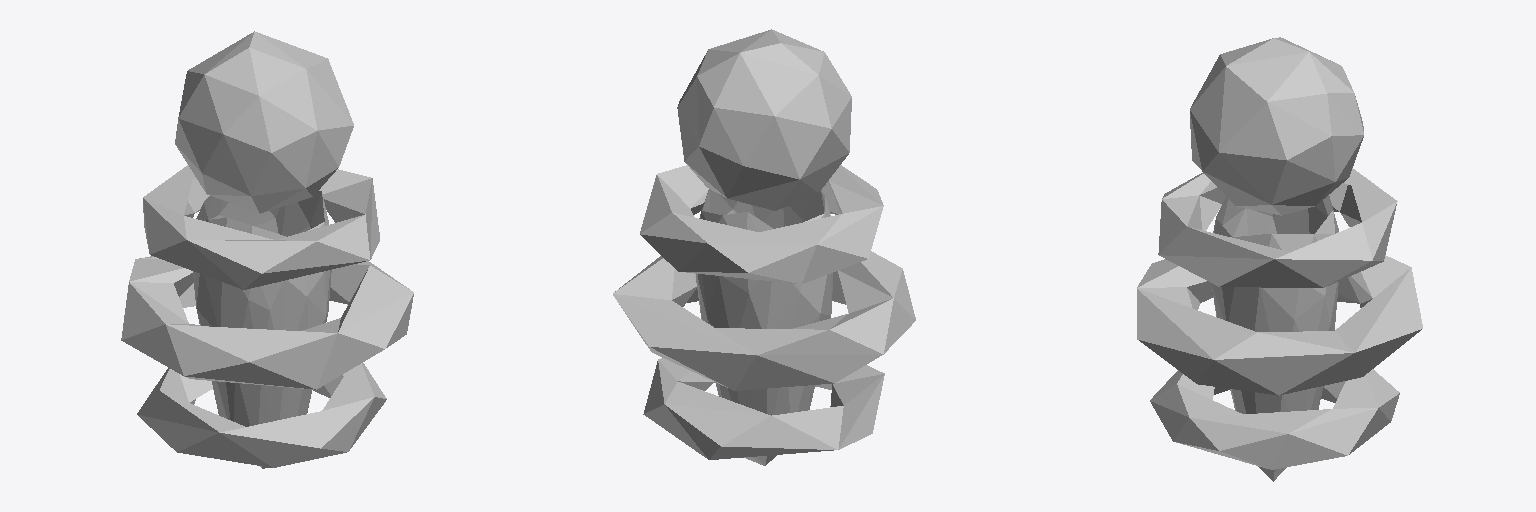
Rendered from AirBoss.obj.
3 renders of one model, left to right at view 1: azimuth 30°, elevation 25°; view 2: azimuth 150°, elevation 25°; view 3: azimuth 270°, elevation 25°, orthographic.
Visible parts, largest first — view 1: Torus.001; view 2: Torus.001; view 3: Torus.001.
Part boxes in pixels (left/top/right/bottom): Torus.001: left=121, top=31, right=413, bottom=468; Torus.001: left=613, top=29, right=915, bottom=465; Torus.001: left=1137, top=37, right=1422, bottom=481.
Size of the model in its own units: 1.57 by 2.55 by 1.56.